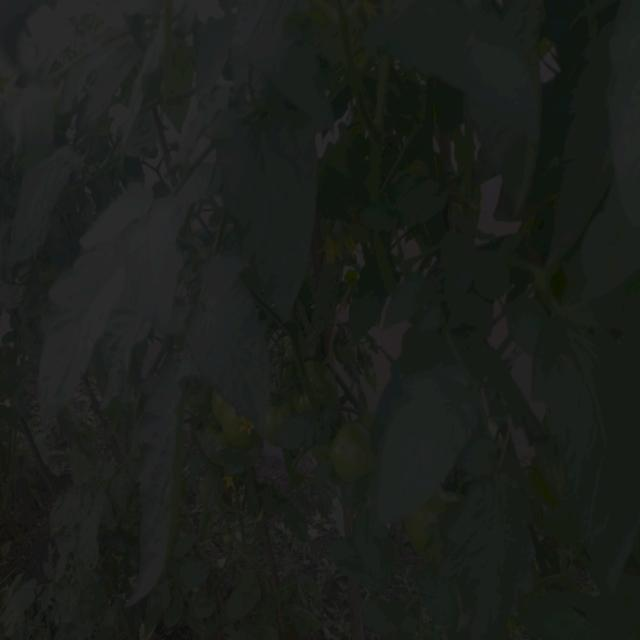tomato: (203, 396, 254, 448), (326, 426, 366, 474), (257, 394, 293, 438), (403, 504, 443, 540)
